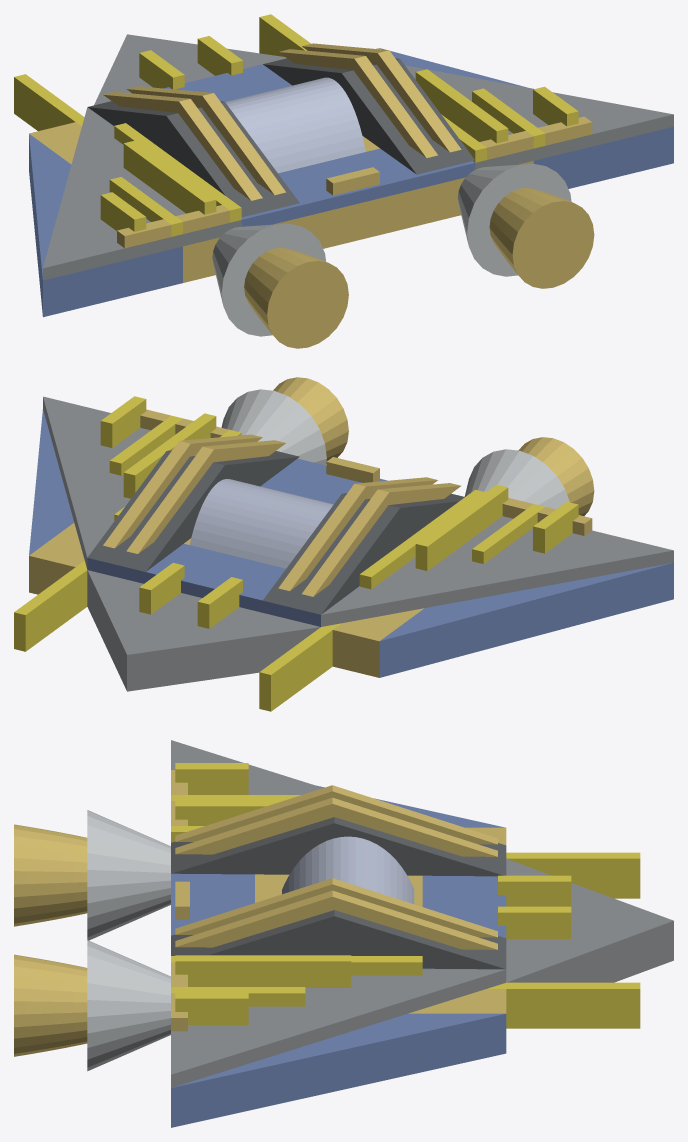
Rendered from tinker_ship_armored_boost.glb.
3 renders of one model, top to bottom at view 1: azimuth 30°, elevation 25°; view 2: azimuth 150°, elevation 25°; view 3: azimuth 270°, elevation 25°, orthographic. The views are drawn at different scales.
Visible parts, largest first — view 1: Mesh_Mesh_head_geo.001_lambert2SG.002; view 2: Mesh_Mesh_head_geo.001_lambert2SG.002; view 3: Mesh_Mesh_head_geo.001_lambert2SG.002.
Part boxes in pixels (box(x1,y1,x2,y2)): Mesh_Mesh_head_geo.001_lambert2SG.002: box(14, 14, 673, 348); Mesh_Mesh_head_geo.001_lambert2SG.002: box(14, 377, 673, 711); Mesh_Mesh_head_geo.001_lambert2SG.002: box(14, 740, 673, 1127).
Bounding box in the file's own units: 54 × 12 × 45.
